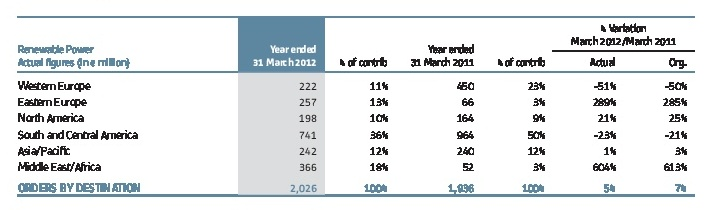table: (0, 0, 706, 210)
